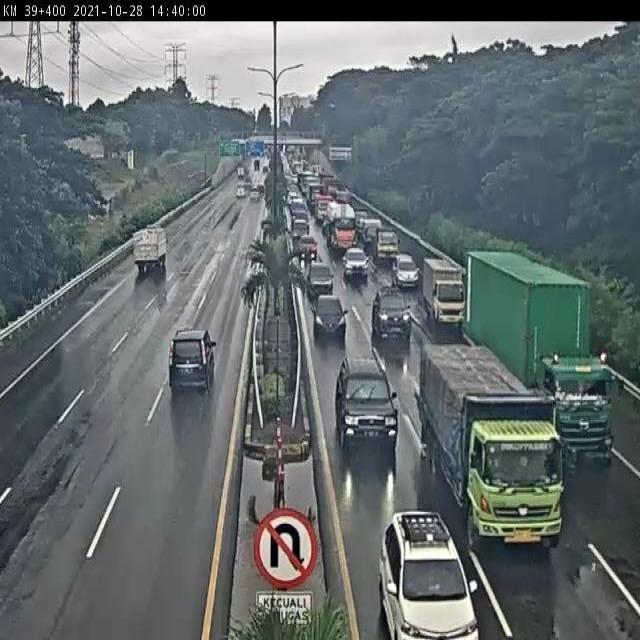big truck: (462, 244, 625, 473), (418, 343, 567, 553), (325, 196, 358, 253)
car: (333, 355, 399, 448), (168, 325, 219, 391), (372, 284, 412, 337), (310, 288, 346, 336), (391, 252, 422, 288), (306, 260, 335, 297), (341, 247, 370, 281), (298, 231, 318, 260)
small truck: (419, 255, 467, 324), (132, 223, 170, 272), (372, 226, 401, 262)
